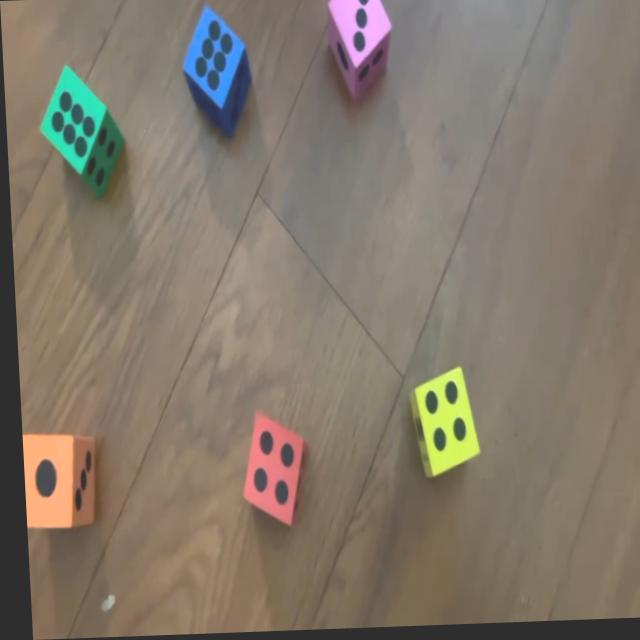blue_block: (180, 5, 253, 141)
red_block: (233, 409, 305, 527)
